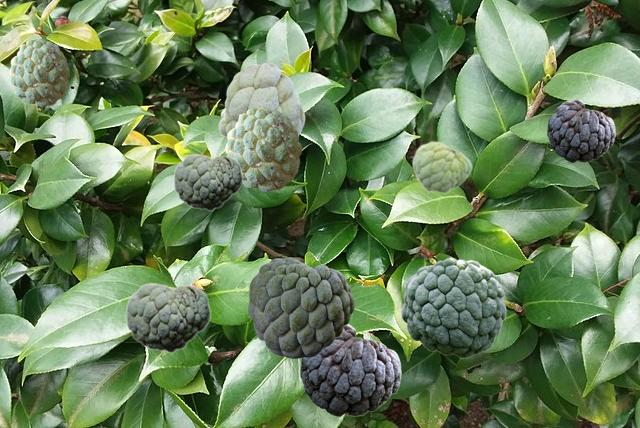atis: (248, 257, 353, 357), (401, 257, 505, 357), (300, 324, 400, 415), (218, 62, 304, 137), (225, 107, 300, 190), (125, 282, 210, 352), (547, 99, 614, 161), (173, 153, 242, 210), (9, 39, 68, 105), (411, 140, 471, 193)
